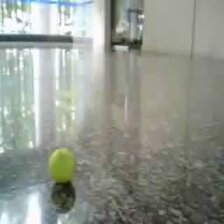tennis: (48, 150, 75, 181)
